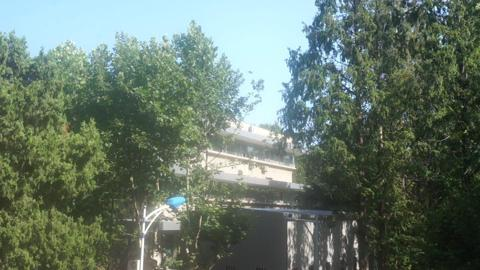UAV: (247, 70, 254, 74)
